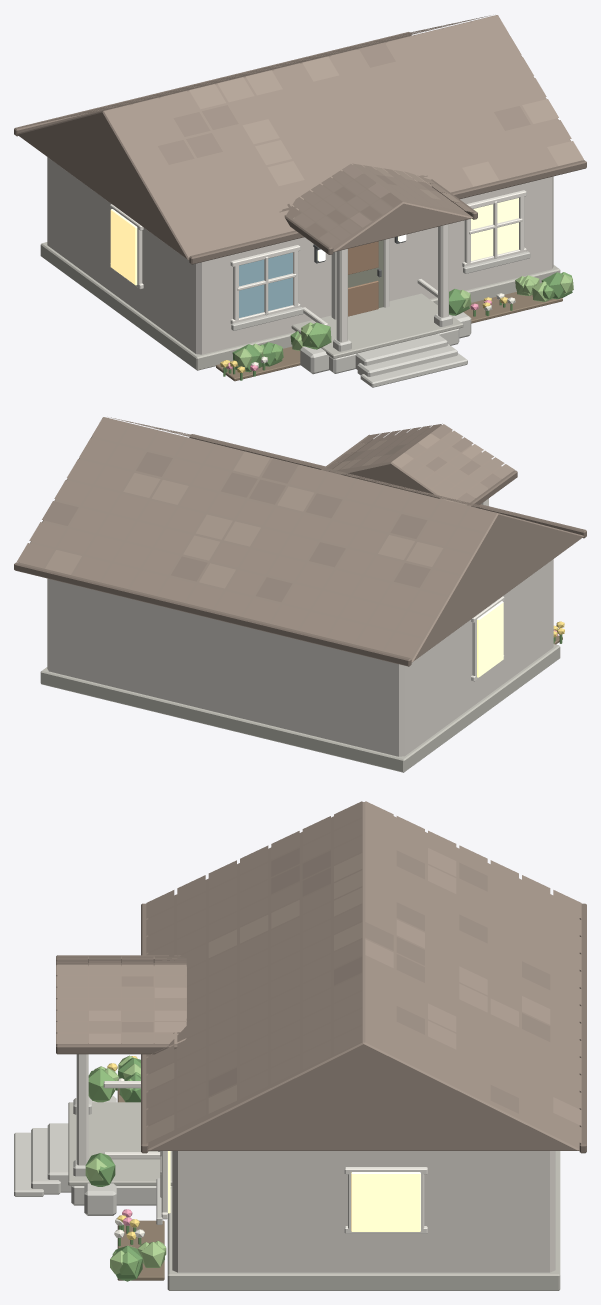
The model's file is house_01.fbx.
3 renders of one model, top to bottom at view 1: azimuth 30°, elevation 25°; view 2: azimuth 150°, elevation 25°; view 3: azimuth 270°, elevation 25°, orthographic. The views are drawn at different scales.
Visible parts, largest first — view 1: MainRoof_RoofTiles, MainHouseBody, MainRoof, PorchGableRoof_RoofTiles, PorchDeckTop, Foundation, PorchGableRoof, GroundFloorWindow_0_Glass, MainRoof_Fascia_Front, GroundFloorWindow_1_Glass, MainRoof_Fascia_Back, SideWindow_Left_0_Glass (+15 smaller); view 2: MainRoof_RoofTiles, MainHouseBody, MainRoof, Foundation, PorchGableRoof_RoofTiles, MainRoof_Fascia_Back, PorchGableRoof, SideWindow_Left_0_Glass, MainRoof_Fascia_Front; view 3: MainRoof_RoofTiles, MainRoof, MainHouseBody, PorchGableRoof_RoofTiles, Foundation, PorchDeckTop, SideWindow_Right_0_Glass, PorchGableRoof, MainRoof_Fascia_Back, PorchColumn_Right, PorchStep_2, PorchStep_1 (+7 smaller).
Part boxes in pixels (bbox=[...]): MainRoof_RoofTiles: bbox=[22, 15, 583, 255]; MainHouseBody: bbox=[47, 157, 553, 354]; MainRoof: bbox=[17, 15, 581, 260]; PorchGableRoof_RoofTiles: bbox=[282, 163, 474, 247]; PorchDeckTop: bbox=[291, 293, 463, 358]; Foundation: bbox=[40, 242, 560, 370]; PorchGableRoof: bbox=[294, 165, 472, 252]; GroundFloorWindow_0_Glass: bbox=[239, 252, 292, 317]; MainRoof_Fascia_Front: bbox=[189, 160, 586, 264]; GroundFloorWindow_1_Glass: bbox=[471, 198, 518, 260]; MainRoof_Fascia_Back: bbox=[14, 32, 411, 136]; SideWindow_Left_0_Glass: bbox=[110, 209, 137, 285]; MainRoof_RoofTiles: bbox=[17, 417, 581, 657]; MainHouseBody: bbox=[47, 559, 553, 756]; MainRoof: bbox=[19, 417, 583, 662]; Foundation: bbox=[40, 644, 560, 772]; PorchGableRoof_RoofTiles: bbox=[323, 423, 514, 505]; MainRoof_Fascia_Back: bbox=[14, 562, 411, 666]; PorchGableRoof: bbox=[330, 425, 501, 502]; SideWindow_Left_0_Glass: bbox=[477, 601, 503, 677]; MainRoof_Fascia_Front: bbox=[189, 434, 586, 538]; MainRoof_RoofTiles: bbox=[146, 801, 581, 1143]; MainRoof: bbox=[148, 802, 579, 1150]; MainHouseBody: bbox=[172, 1151, 555, 1272]; PorchGableRoof_RoofTiles: bbox=[56, 956, 186, 1043]; Foundation: bbox=[167, 1151, 560, 1290]; PorchDeckTop: bbox=[68, 1102, 172, 1185]; SideWindow_Right_0_Glass: bbox=[351, 1172, 420, 1231]; PorchGableRoof: bbox=[56, 963, 186, 1044]; MainRoof_Fascia_Back: bbox=[579, 903, 586, 1153]; PorchColumn_Right: bbox=[76, 1054, 88, 1165]; PorchStep_2: bbox=[47, 1123, 71, 1192]; PorchStep_1: bbox=[31, 1128, 60, 1194].
Bounding box in the file's own units: 916 × 462 × 917.
